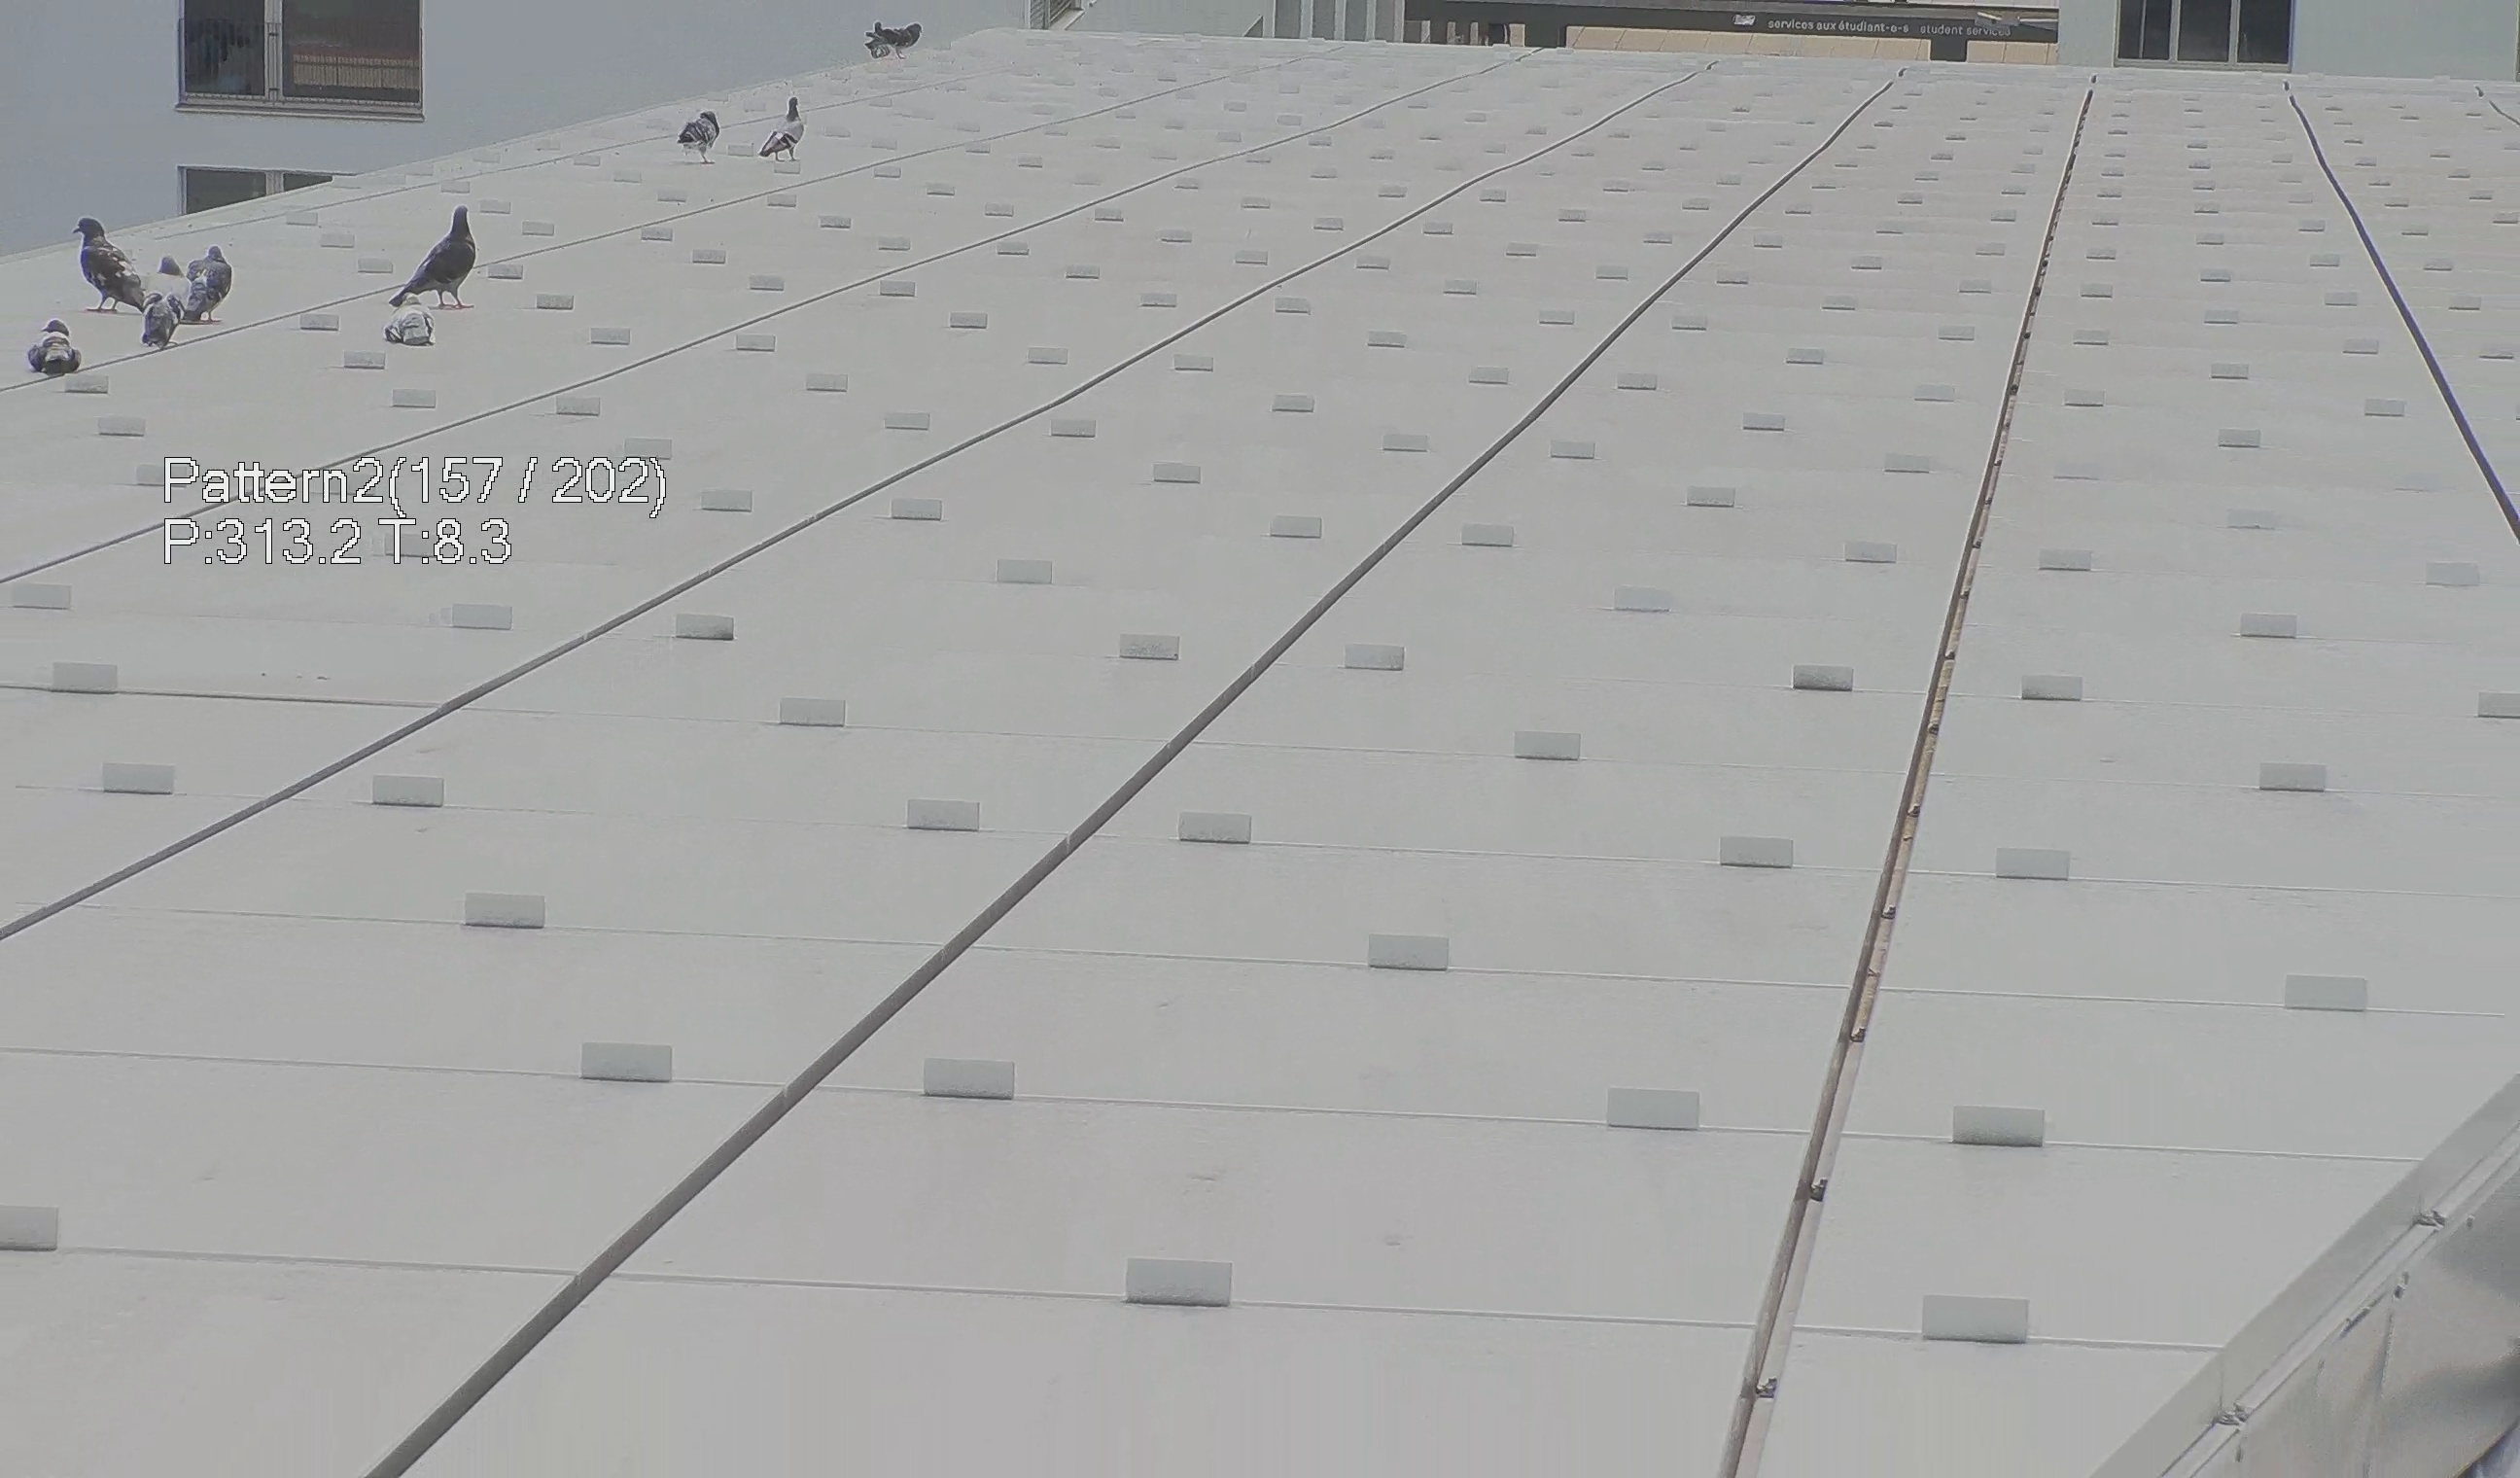Pigeon: (378, 183, 475, 313), (63, 199, 160, 326), (368, 289, 454, 354), (178, 239, 236, 334), (141, 255, 192, 359), (23, 315, 90, 384), (763, 88, 816, 165), (677, 104, 732, 171), (869, 23, 927, 60)
